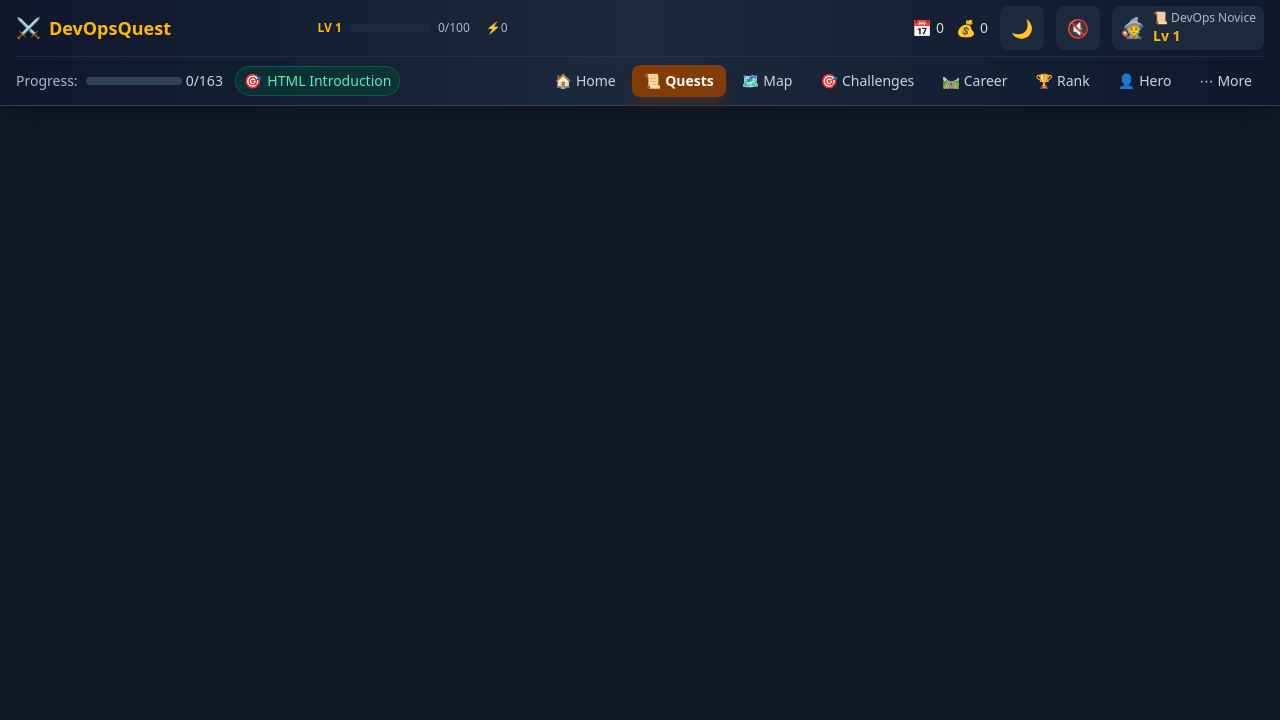
Test: HUD › cycles the theme and persists the choice
This screenshot has width=1280, height=720.
Click the button named "Current theme: Dark. Click to change.": (1022, 28) top-left (1000, 6), bottom-right (1044, 50)
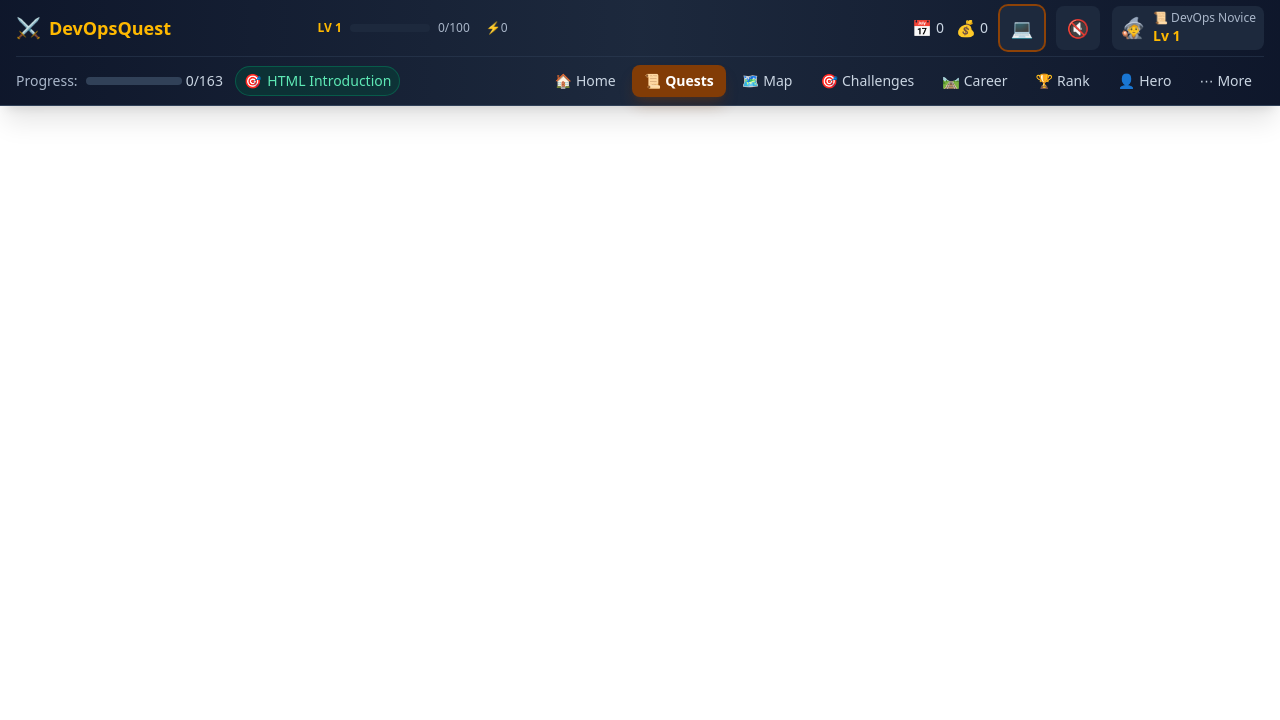
Expected: the button named "Current theme: System. Click to change." is shown
Click the button named "Current theme: System. Click to change.": (1022, 28) top-left (1000, 6), bottom-right (1044, 50)
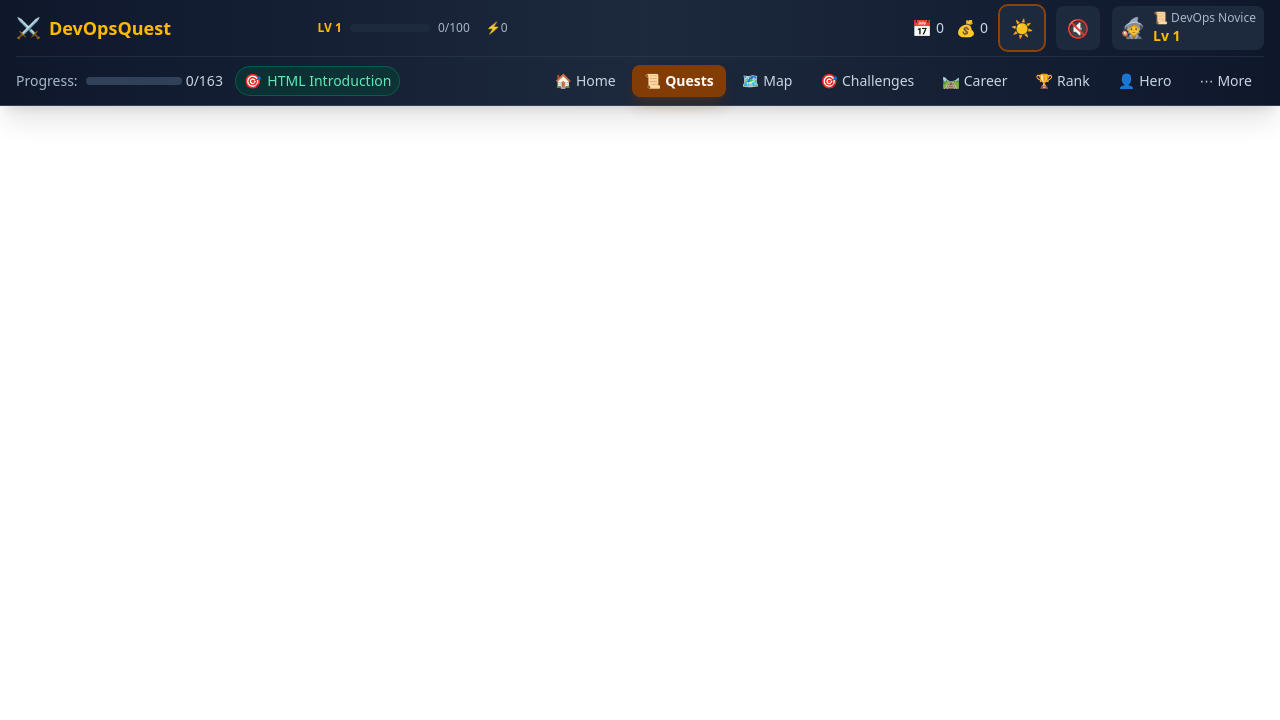
Expected: the button named "Current theme: Light. Click to change." is shown
Click the button named "Current theme: Light. Click to change.": (1022, 28) top-left (1000, 6), bottom-right (1044, 50)
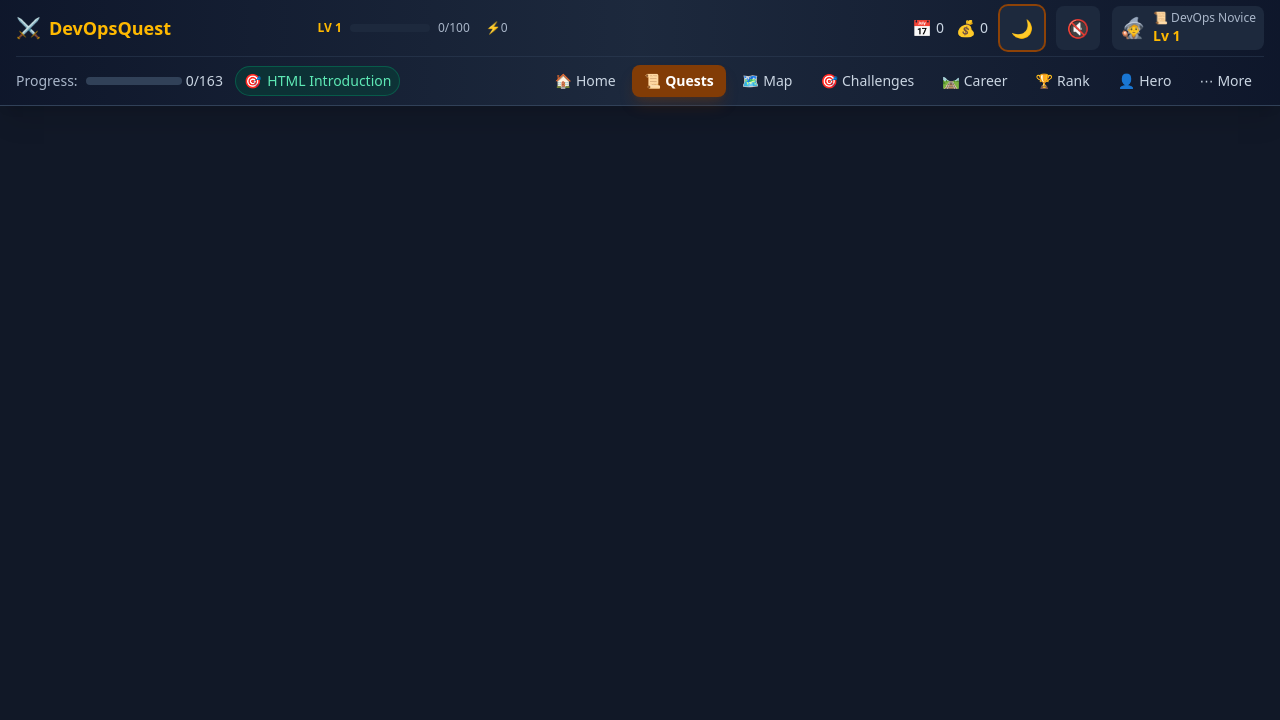
Expected: the button named "Current theme: Dark. Click to change." is shown, top-left (1000, 6), bottom-right (1044, 50)
